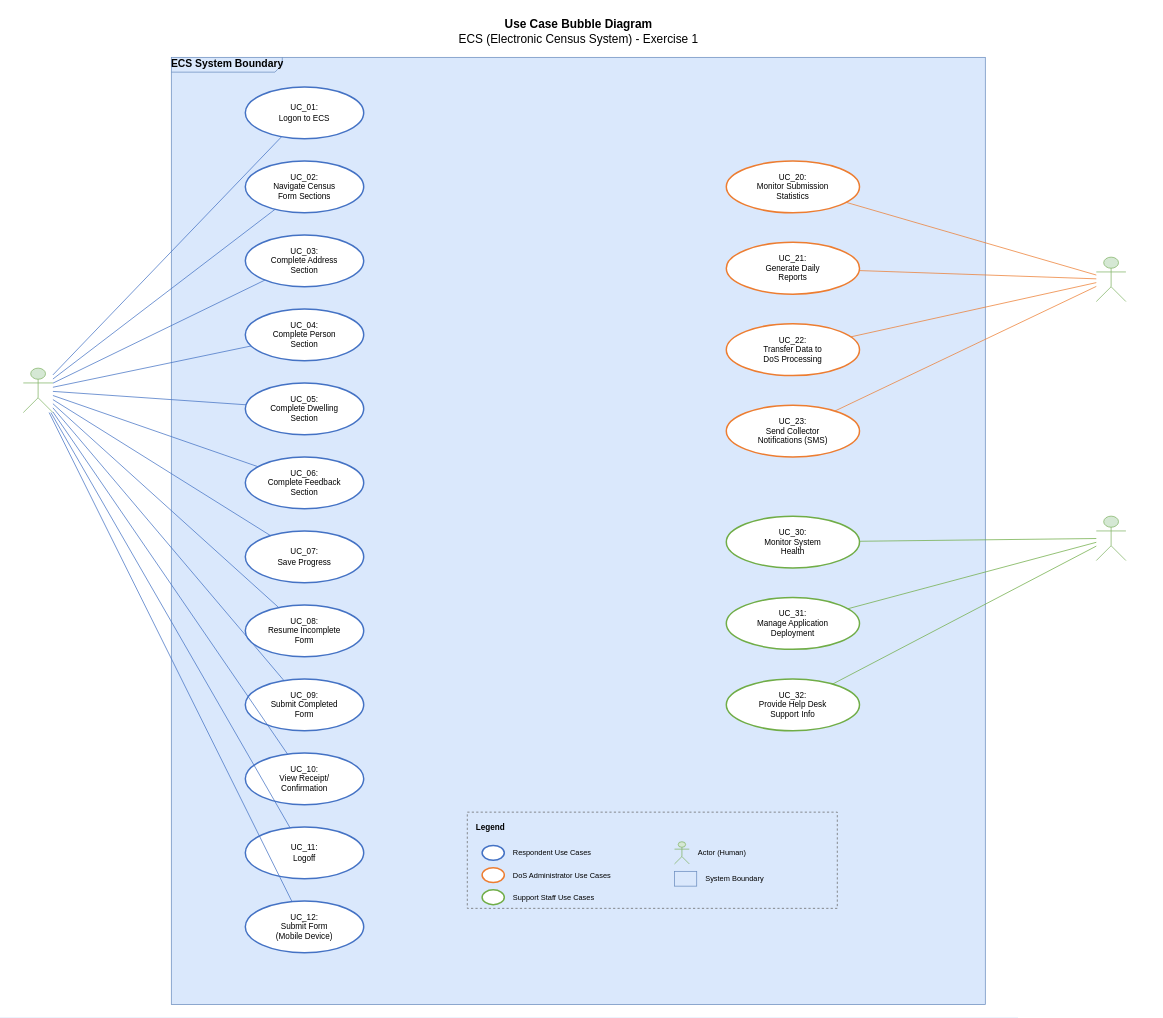
Image size: 1163x1018. Some labels were removed from this diagram. The box of each missing label's shape, as (x1, y1, x2, y2) in pixels:
DoS Administrator: (1096, 256, 1126, 302)
Respondent: (23, 367, 53, 413)
Support Staff: (1096, 515, 1126, 561)
